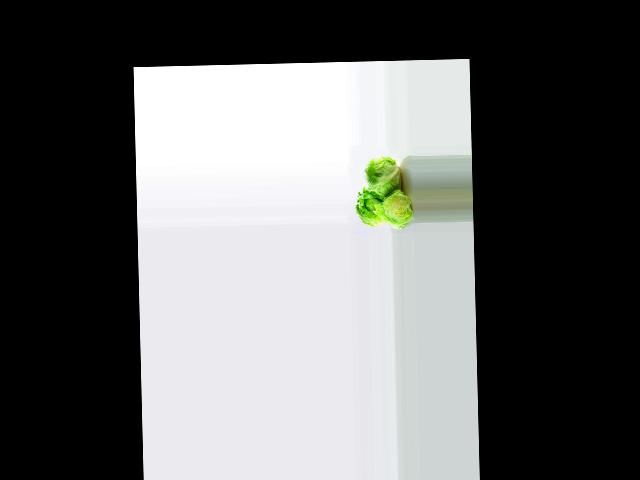lettuce: (352, 184, 386, 228)
